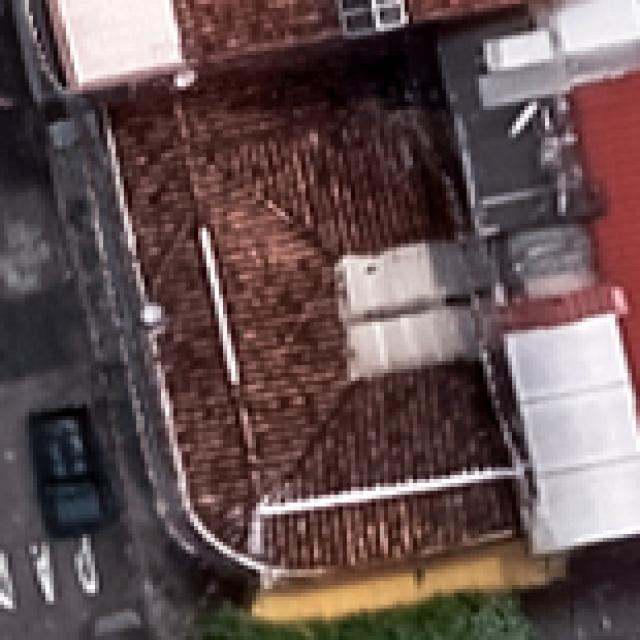Batiment: (110, 30, 518, 568), (569, 70, 640, 393), (174, 0, 342, 65), (406, 0, 528, 23)
